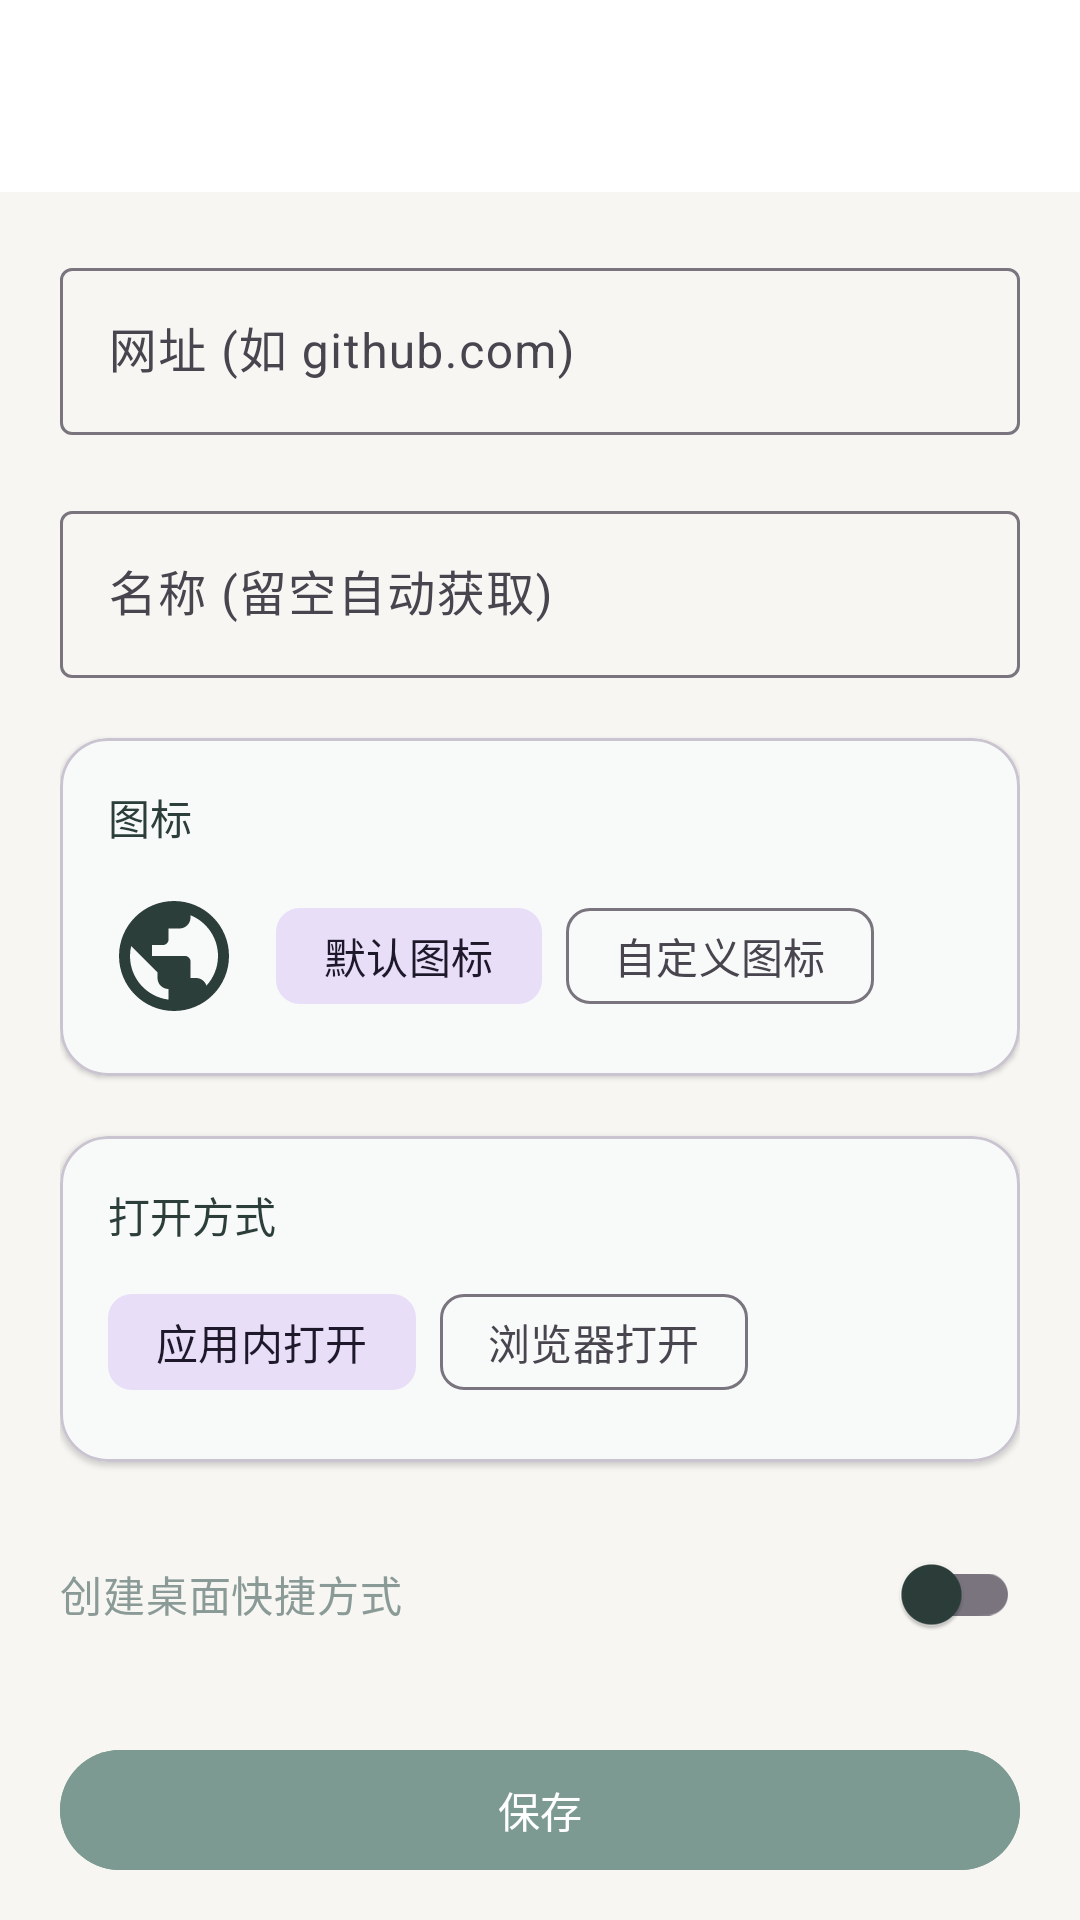

Where icons sit on this 1080×1920 app screen, as (x1, y1, x2, y2):
globe: (119, 901, 229, 1011)
